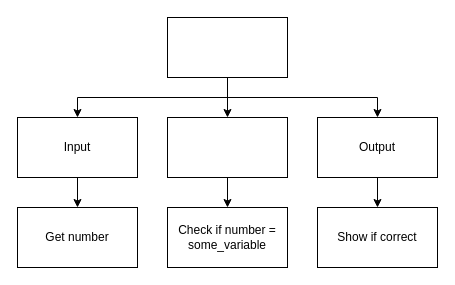
Image size: 455x285. Some labels were removed from this diagram. The shapes that lost their labels are listed below. From the top down, each one's centre as x and y in pixels, then its label:
At point (227, 47): "Correct Number?".
At point (227, 147): "Process".
